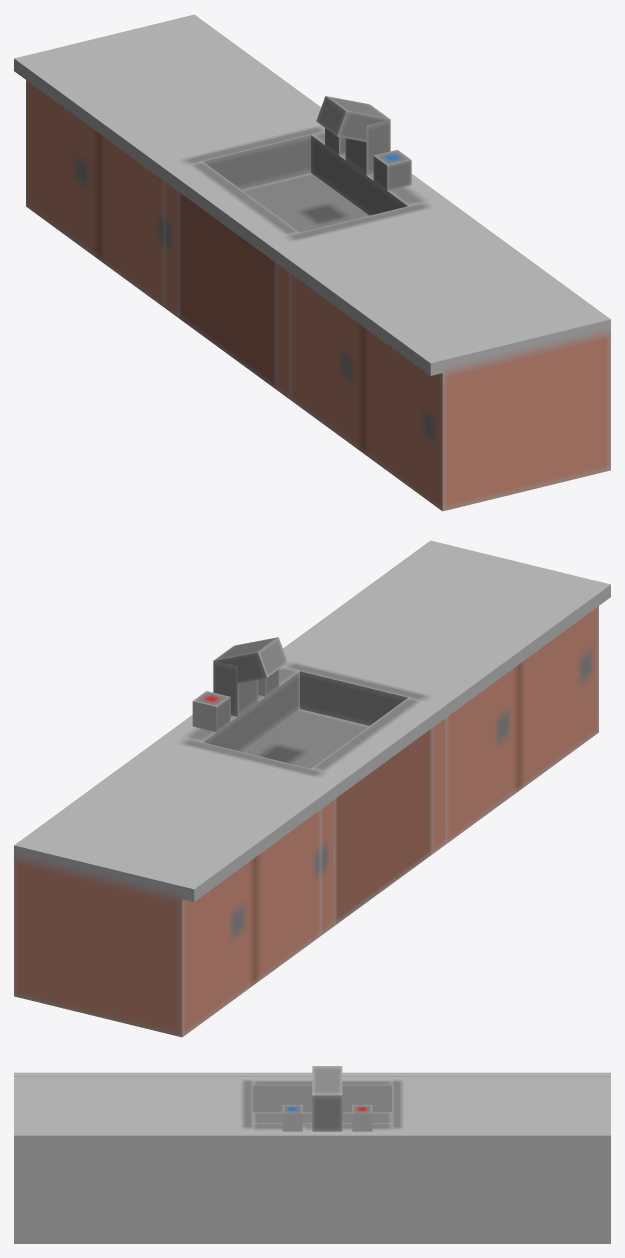
File: Kitchenette.fbx
The picture shows the model from 3 angles, top to bottom: view 1: azimuth 30°, elevation 25°; view 2: azimuth 150°, elevation 25°; view 3: azimuth 270°, elevation 25°; orthographic projection. The views are drawn at different scales.
Parts seen in each view (by area): view 1: cube; view 2: cube; view 3: cube.
Part boxes in pixels (x1,y1,x2,y2): cube: [14, 14, 610, 511]; cube: [14, 540, 610, 1037]; cube: [14, 1066, 610, 1243].
Size of the model in its own units: 23.44 by 27.39 by 93.76.
1 material, 1 textured.
